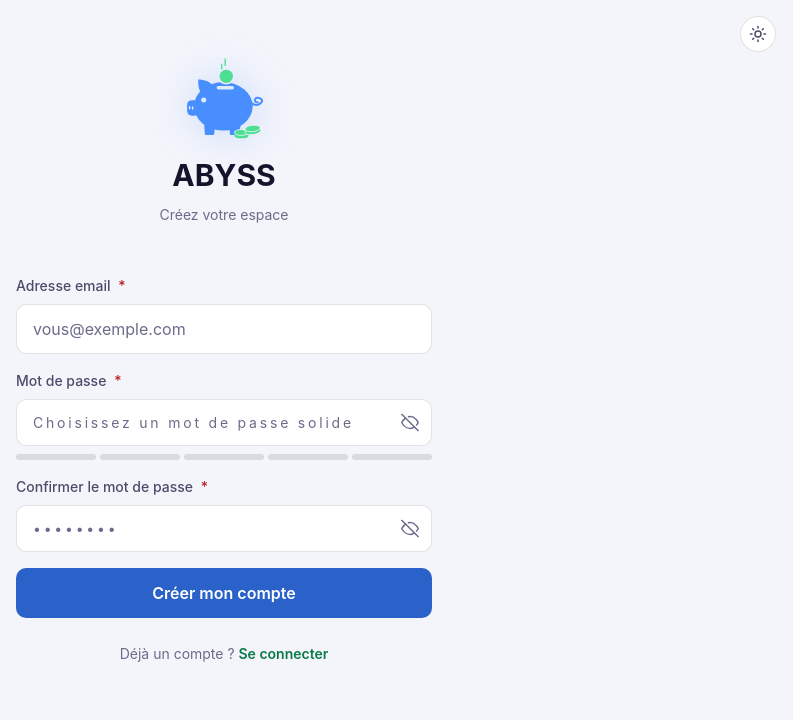
RegisterPage — validation › refuse un mot de passe sous le niveau requis, en disant lequel et pourquoi
The image size is (793, 720).
Type "alice@example.com" into the field with id "register-email".
click(224, 329); type("alice@example.com")  # box [16, 304, 432, 354]
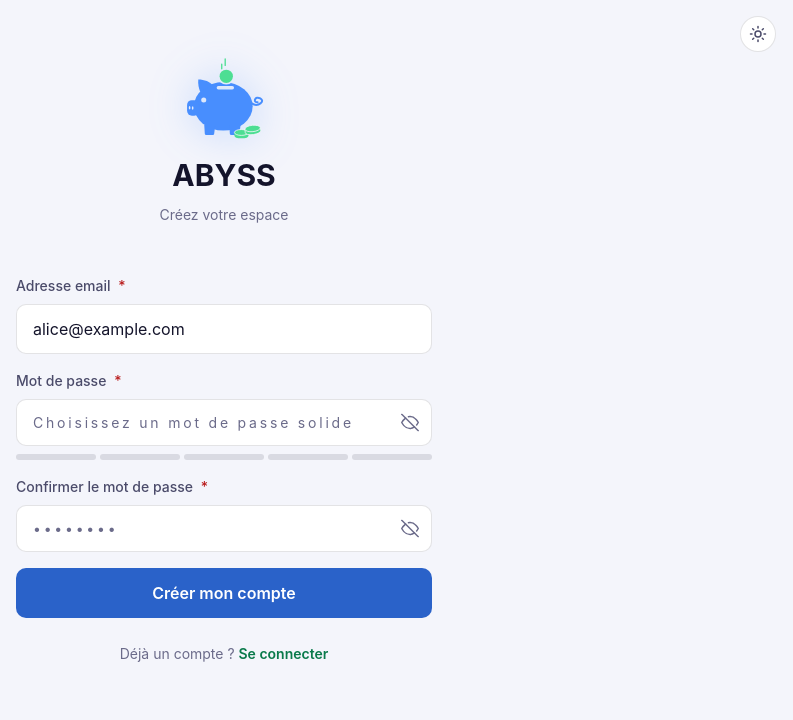
Type "Bonjour42" into the password field with id "register-password".
click(224, 423); type("Bonjour42")  # box [16, 399, 432, 446]
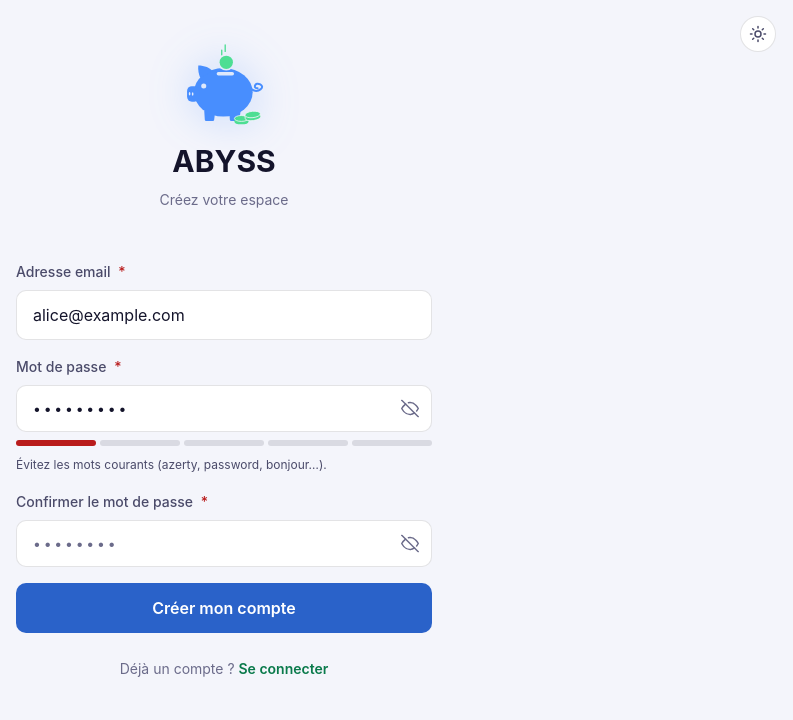
Type "Bonjour42" into the password field with id "register-confirm".
click(224, 543); type("Bonjour42")  # box [16, 520, 432, 567]
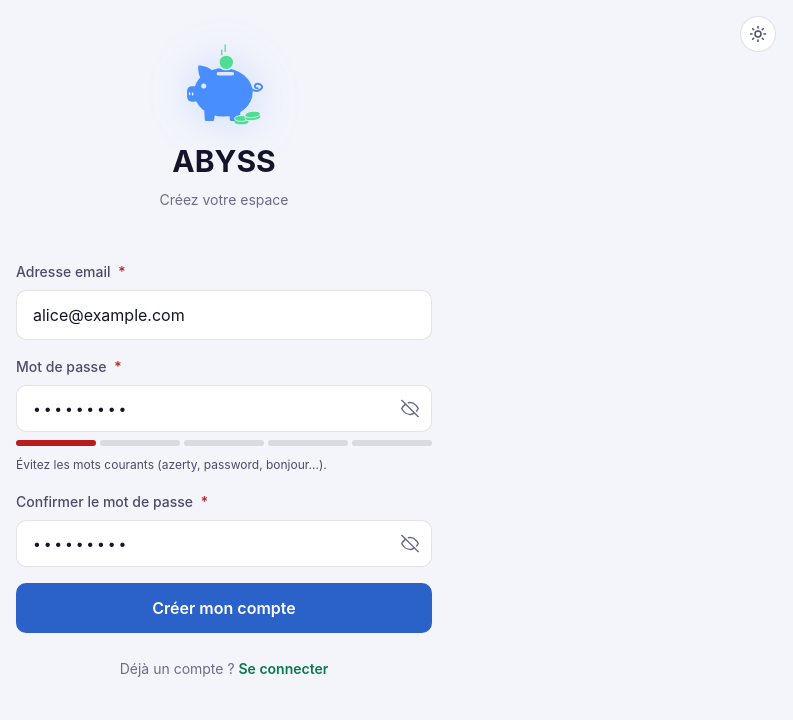
Submit the form, box [16, 261, 432, 633]
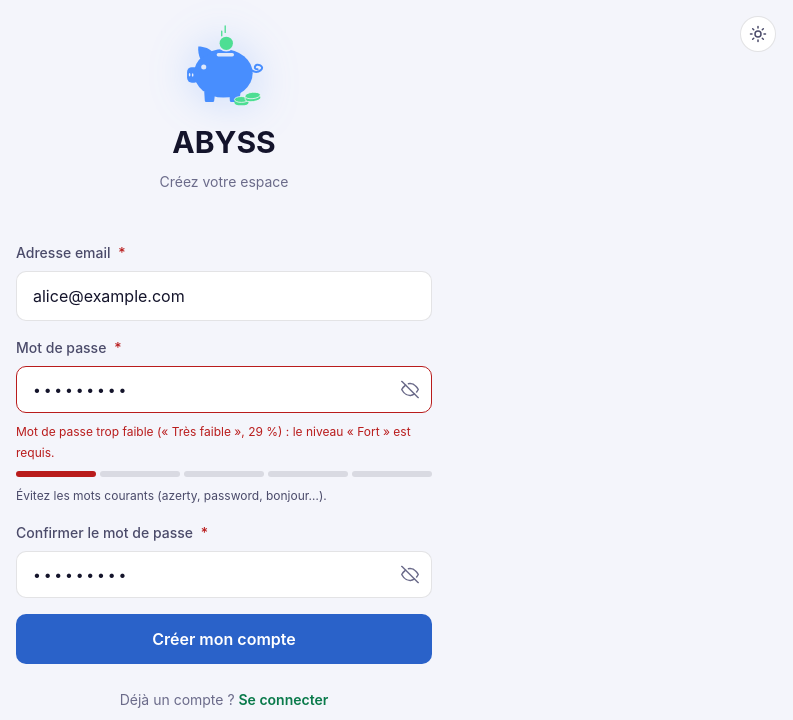
Expected: the text "Mot de passe trop faible (« Très faible »" is shown, [16, 424, 411, 460]
Expected: the text "le niveau « Fort » est requis" is shown, [16, 424, 411, 460]
